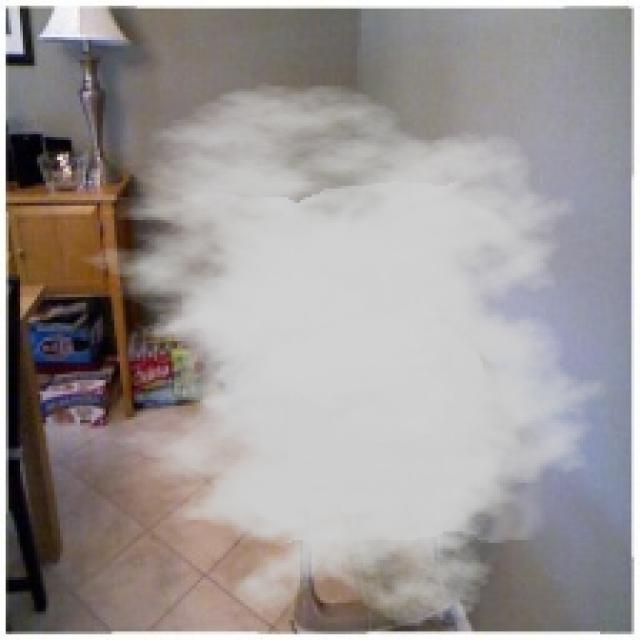smoke: (57, 83, 617, 628)
